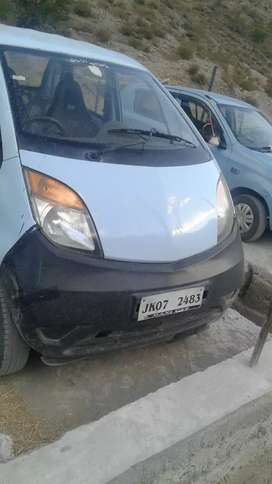JK072483: (137, 286, 203, 322)
